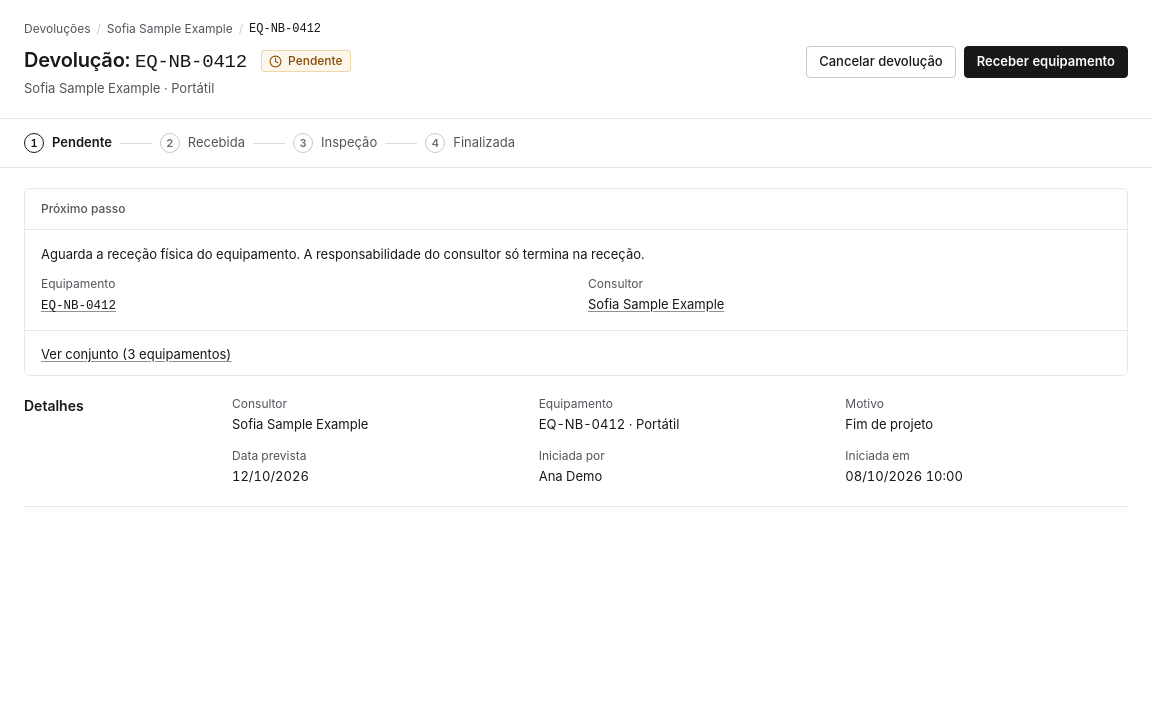
Test: ReturnDetailPage — receiving › shows a rejected cancellation inside its dialog
What coordinates should you click on to do the following:
click the button "Cancelar devolução"
I would click on:
 (881, 62)
Its box is [806, 46, 956, 78].
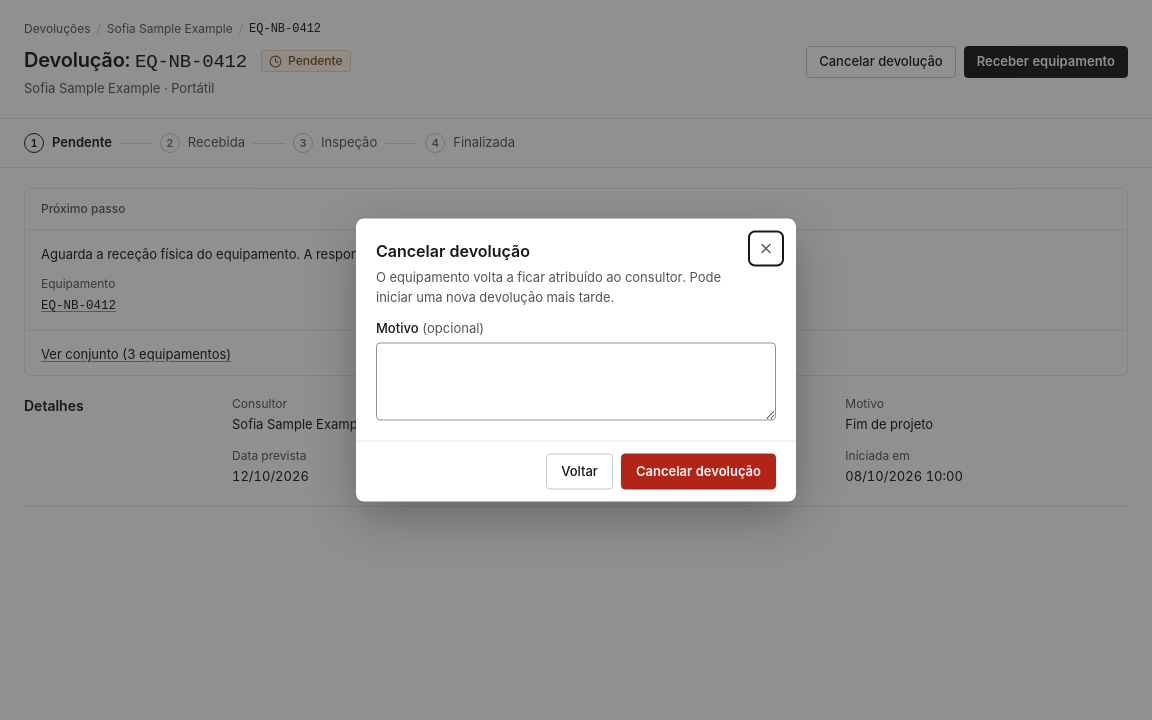
What coordinates should you click on to do the following:
click the button "Cancelar devolução"
I would click on:
 (698, 472)
Its box is [621, 454, 776, 490].
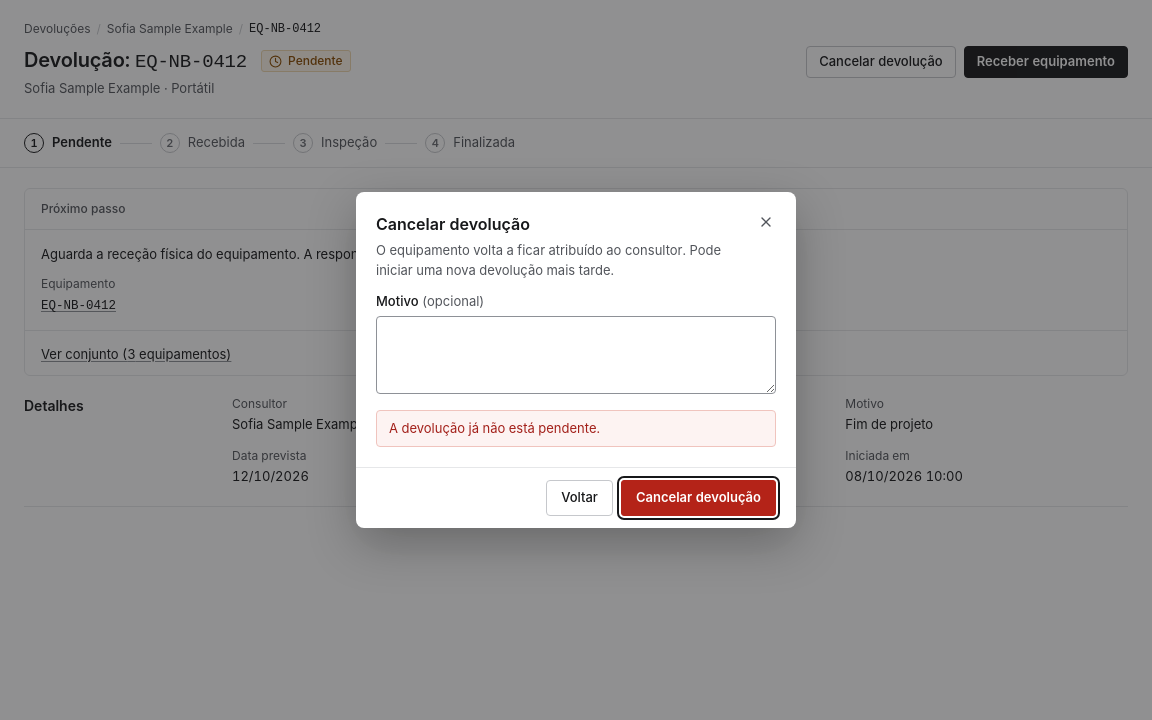
expect the message reads "A devolução já não está pendente.": met, box [389, 420, 600, 436]
